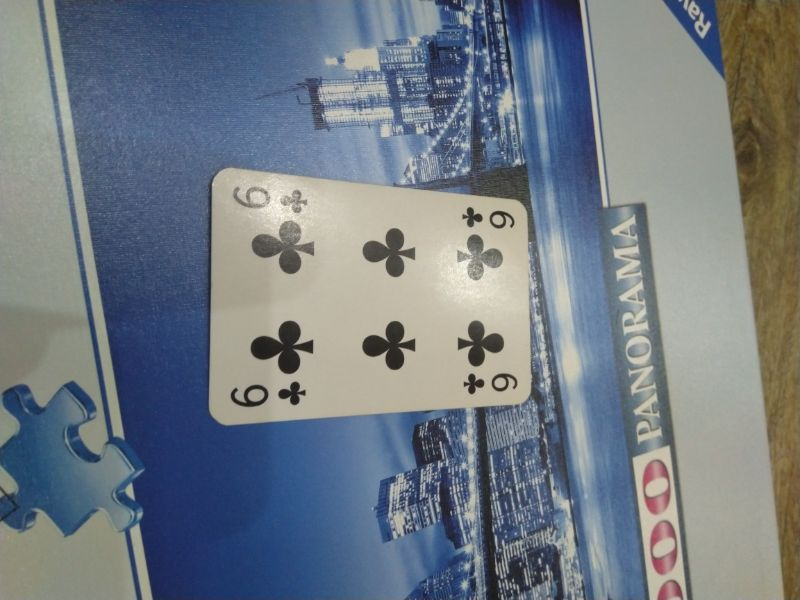6c: (227, 182, 311, 216), (228, 379, 310, 411), (458, 202, 517, 231), (461, 370, 520, 396)
